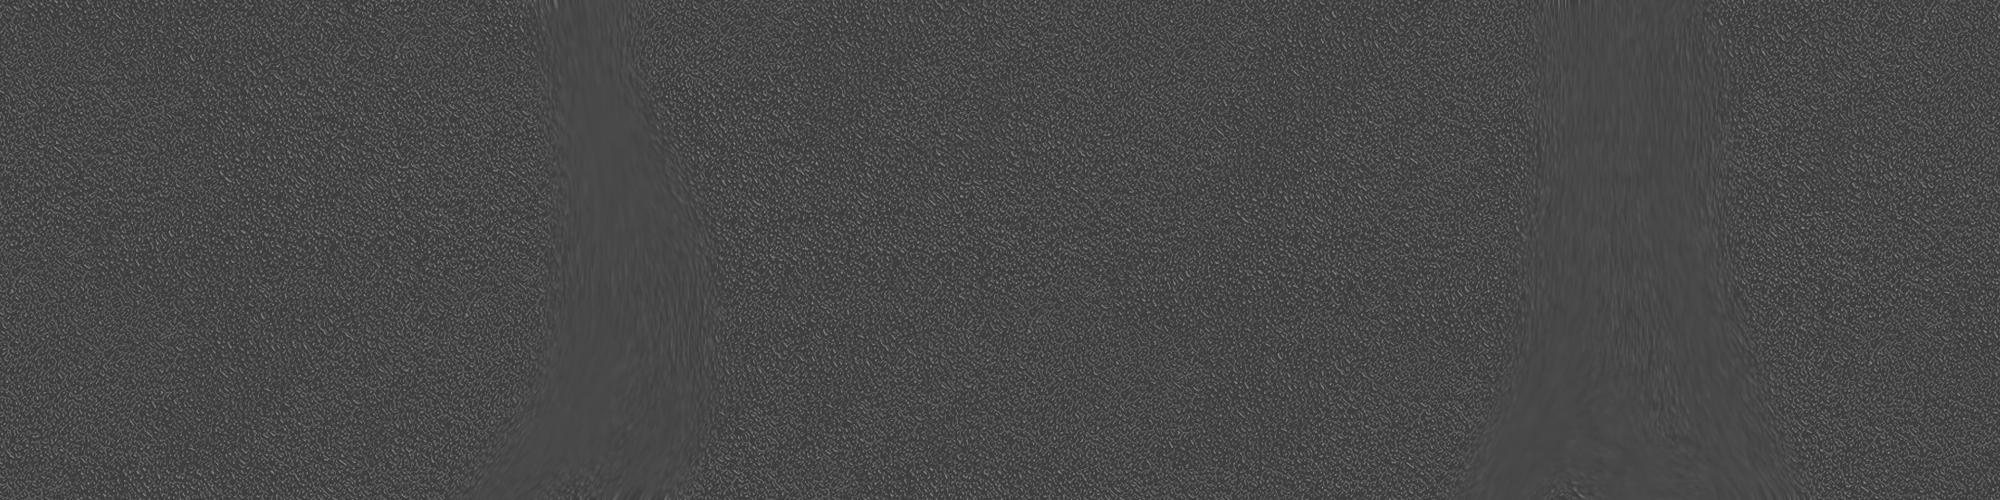Flow_Lines: (441, 4, 741, 500), (1506, 6, 1802, 500)
